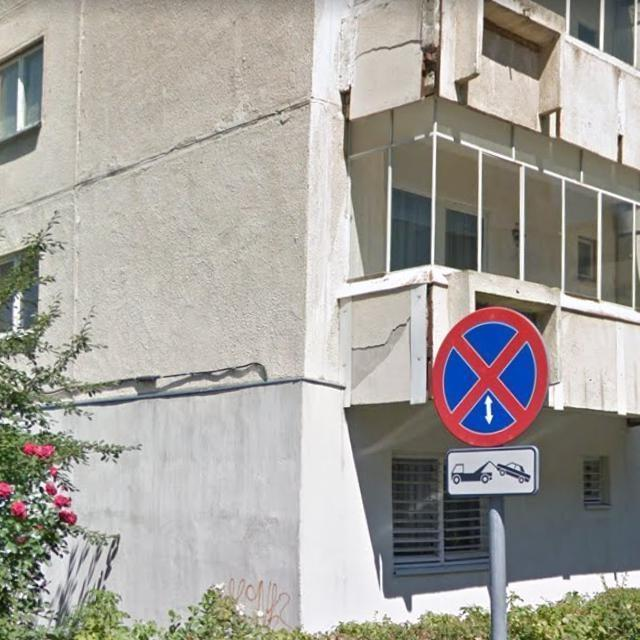forb_waiting: (431, 307, 547, 447)
